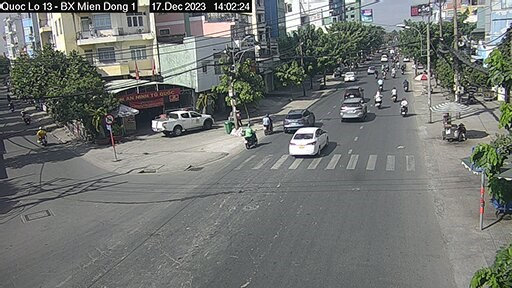car: (149, 107, 218, 138), (287, 127, 334, 156), (280, 106, 317, 131), (339, 97, 370, 124), (341, 83, 369, 104), (343, 69, 358, 85)
motorbike: (242, 123, 258, 149), (259, 115, 274, 135), (398, 95, 410, 119), (373, 89, 386, 111), (390, 87, 401, 105), (375, 77, 386, 92), (402, 79, 410, 93)
